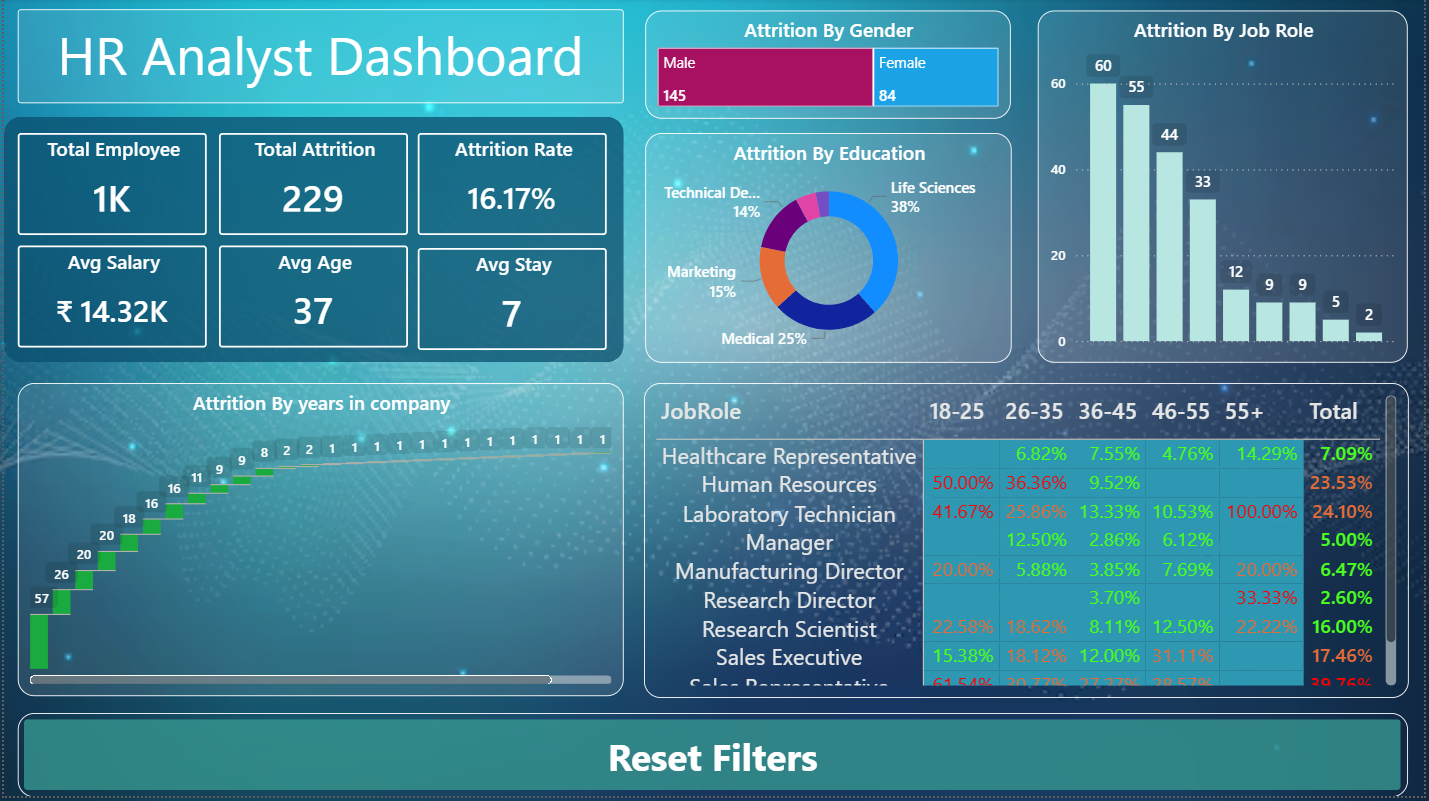

The page's visual inventory and layout, read from the dashboard file:
{"tool":"powerbi","page":{"name":"HR analyst Dashboard","canvas":[1280,720],"ordinal":0},"visuals":[{"type":"shape","box":[0,107.6,558.8,221.3],"z":0},{"type":"cardVisual","title":"Total Attrition","fields":{"Data":["Calculation.Attrition Count"]},"box":[193.5,122.1,170.2,91.9],"z":1000},{"type":"cardVisual","title":"Attrition Rate","fields":{"Data":["Calculation.Attrition Rtae"]},"box":[373.2,122.1,170.2,91.9],"z":2000},{"type":"cardVisual","title":"Avg Age","fields":{"Data":["Avg(HR_Analytics.Age)"]},"box":[193.5,223.7,170.2,91.9],"z":3000},{"type":"cardVisual","title":"Avg Salary","fields":{"Data":["Avg(HR_Analytics.MonthlyRate)"]},"box":[12.3,223.7,170.2,91.9],"z":4000},{"type":"cardVisual","title":"Avg Stay","fields":{"Data":["Avg(HR_Analytics.YearsAtCompany)"]},"box":[373.2,225,170.2,91.9],"z":5000},{"type":"cardVisual","title":"Total Employee","fields":{"Data":["Calculation.Total Employee"]},"box":[12.3,122.1,170.2,91.9],"z":6000},{"type":"donutChart","title":"Attrition By Education","fields":{"Category":["HR_Analytics.EducationField"],"Y":["Calculation.Attrition Count"]},"box":[577.7,122.1,330.7,207.2],"z":7000},{"type":"columnChart","title":"Attrition By Job Role","fields":{"Category":["HR_Analytics.JobRole"],"Y":["Calculation.Attrition Count"]},"box":[932.2,11.5,333.7,317.9],"z":8000},{"type":"treemap","title":"Attrition By Gender","fields":{"Group":["HR_Analytics.Gender"],"Values":["Calculation.Attrition Count"]},"box":[577.7,11,329.3,97.4],"z":9000},{"type":"textbox","box":[11.9,10.2,546.4,85.1],"z":10000},{"type":"waterfallChart","title":"Attrition By years in company","fields":{"Category":["HR_Analytics.YearsAtCompany"],"Y":["Calculation.Attrition Count"]},"box":[11.9,347.2,546.4,282.6],"z":11000},{"type":"actionButton","title":"Reset Filters","box":[12.2,644.4,1253.4,75.8],"z":12000},{"type":"pivotTable","fields":{"Values":["Calculation.Attrition Rtae"],"Columns":["HR_Analytics.AgeGroup"],"Rows":["HR_Analytics.JobRole"]},"box":[577,347.2,689.4,284.3],"z":12001}]}

Visuals, with their boxes in screenshot pixels (x1, y1, x2, y2), scaled from the page's 1280x720 canvas onto the 1429x801 screenshot:
shape: <bbox>0, 120, 624, 366</bbox>
"Total Attrition" cardVisual: <bbox>216, 136, 406, 238</bbox>
"Attrition Rate" cardVisual: <bbox>417, 136, 607, 238</bbox>
"Avg Age" cardVisual: <bbox>216, 249, 406, 351</bbox>
"Avg Salary" cardVisual: <bbox>14, 249, 204, 351</bbox>
"Avg Stay" cardVisual: <bbox>417, 250, 607, 353</bbox>
"Total Employee" cardVisual: <bbox>14, 136, 204, 238</bbox>
"Attrition By Education" donutChart: <bbox>645, 136, 1014, 366</bbox>
"Attrition By Job Role" columnChart: <bbox>1041, 13, 1413, 366</bbox>
"Attrition By Gender" treemap: <bbox>645, 12, 1013, 121</bbox>
textbox: <bbox>13, 11, 623, 106</bbox>
"Attrition By years in company" waterfallChart: <bbox>13, 386, 623, 701</bbox>
"Reset Filters" actionButton: <bbox>14, 717, 1413, 800</bbox>
pivotTable - Calculation.Attrition Rtae x HR_Analytics.AgeGroup: <bbox>644, 386, 1414, 703</bbox>
